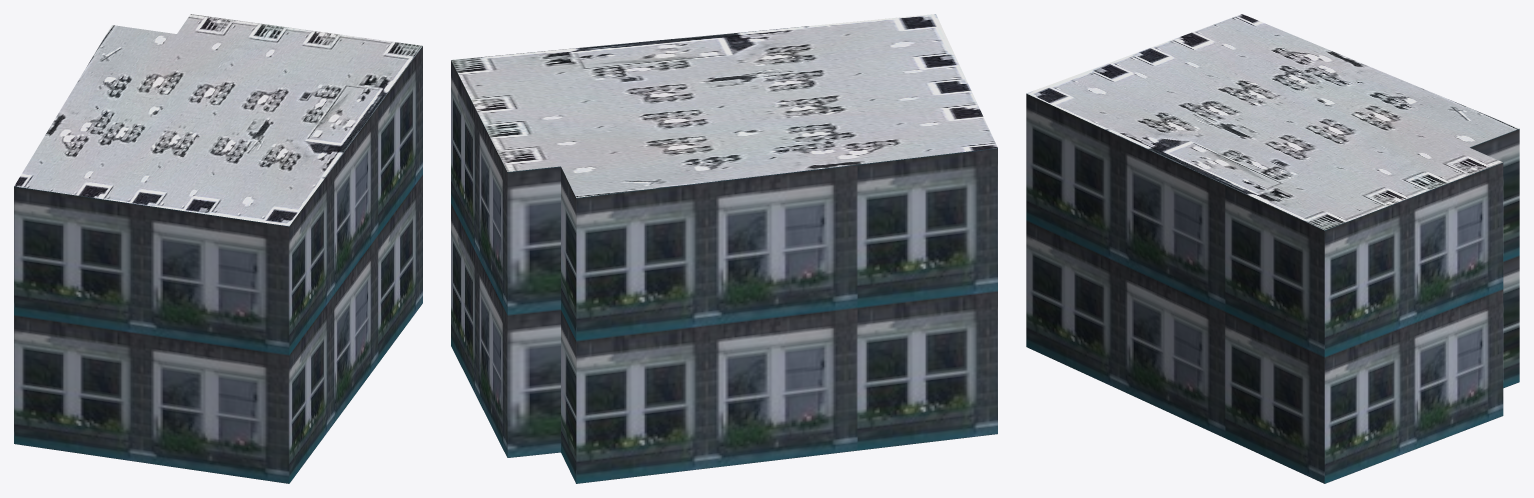
The model's file is ResTex__4740.fbx.
The picture shows the model from 3 angles, left to right: view 1: azimuth 30°, elevation 25°; view 2: azimuth 150°, elevation 25°; view 3: azimuth 270°, elevation 25°; orthographic projection. The views are drawn at different scales.
Parts seen in each view (by area): view 1: CityEngineMaterial_11_m, CityEngineMaterial_m; view 2: CityEngineMaterial_11_m, CityEngineMaterial_m; view 3: CityEngineMaterial_11_m, CityEngineMaterial_m.
Part boxes in pixels (box(x1,y1,x2,y2)): CityEngineMaterial_11_m: box(14, 46, 422, 483); CityEngineMaterial_m: box(14, 14, 422, 226); CityEngineMaterial_11_m: box(451, 60, 997, 483); CityEngineMaterial_m: box(451, 14, 997, 197); CityEngineMaterial_11_m: box(1026, 93, 1519, 483); CityEngineMaterial_m: box(1026, 14, 1519, 230).
Bounding box in the file's own units: 10.98 × 6 × 10.58.
2 materials, 2 textured.
